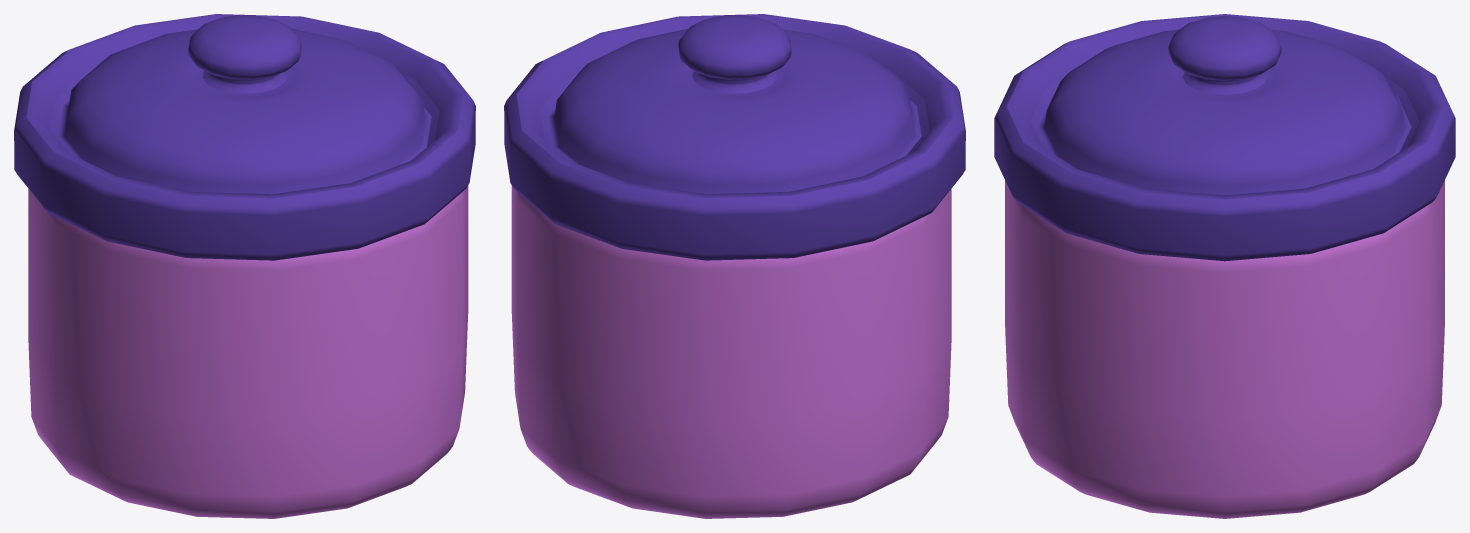
The model's file is Friday_FlourContainer.fbx.
3 renders of one model, left to right at view 1: azimuth 30°, elevation 25°; view 2: azimuth 150°, elevation 25°; view 3: azimuth 270°, elevation 25°, orthographic.
Visible parts, largest first — view 1: Container, Lid; view 2: Container, Lid; view 3: Container, Lid.
Part boxes in pixels (x1,y1,x2,y2): Container: [28, 185, 468, 518]; Lid: [14, 14, 475, 260]; Container: [511, 185, 951, 518]; Lid: [504, 14, 965, 260]; Container: [1005, 180, 1444, 518]; Lid: [994, 14, 1455, 261].
Size of the model in its own units: 39.83 by 38.9 by 39.83.
